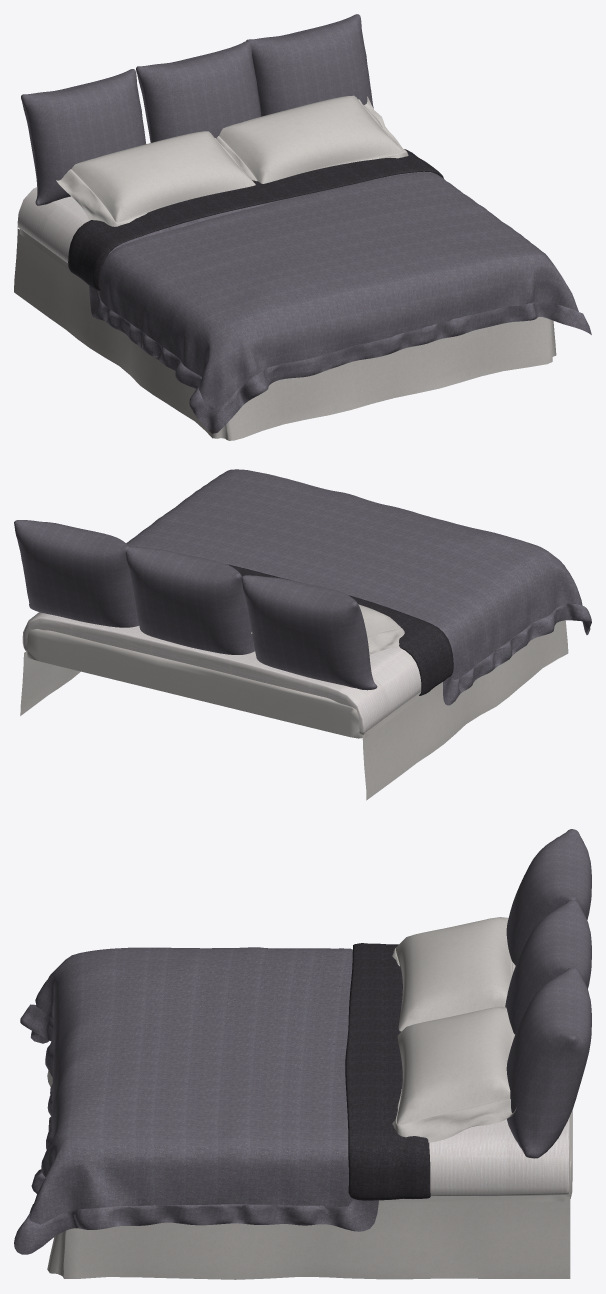
The model's file is zhuwochuang.fbx.
3 views of the same model, one above another, from view 1: azimuth 30°, elevation 25°; view 2: azimuth 150°, elevation 25°; view 3: azimuth 270°, elevation 25° (orthographic). The views are drawn at different scales.
Parts seen in each view (by area): view 1: zhuwochuang; view 2: zhuwochuang; view 3: zhuwochuang.
Boxes of the visible parts, bbox=[...] form: zhuwochuang: bbox=[14, 14, 591, 440]; zhuwochuang: bbox=[14, 469, 591, 800]; zhuwochuang: bbox=[14, 829, 591, 1279].
Size of the model in its own units: 253 by 122 by 261.
